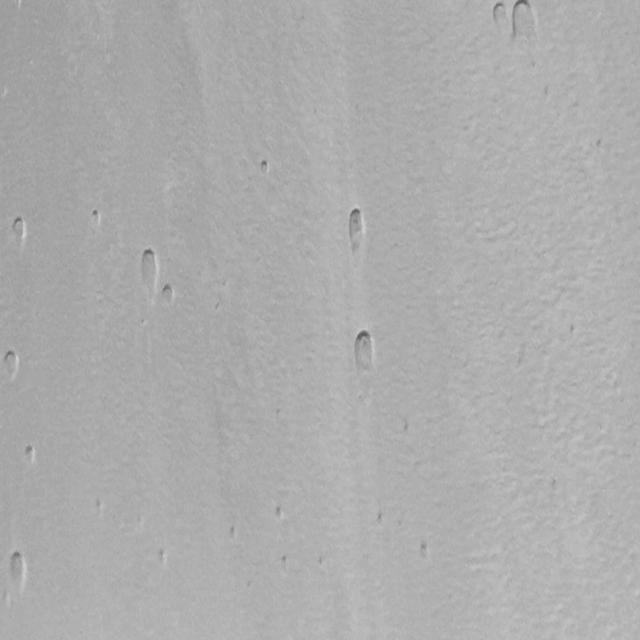pin holes: (510, 0, 545, 48), (352, 328, 384, 377), (343, 205, 371, 261), (135, 246, 162, 295), (5, 550, 30, 594), (488, 1, 514, 36), (9, 214, 32, 248), (0, 345, 21, 381), (416, 538, 434, 564), (159, 283, 177, 307), (22, 442, 39, 466), (256, 156, 274, 178), (156, 548, 170, 568), (90, 209, 104, 229), (272, 504, 286, 522), (314, 553, 328, 570), (227, 524, 240, 541), (278, 553, 291, 570), (375, 512, 388, 528), (93, 499, 105, 516)
